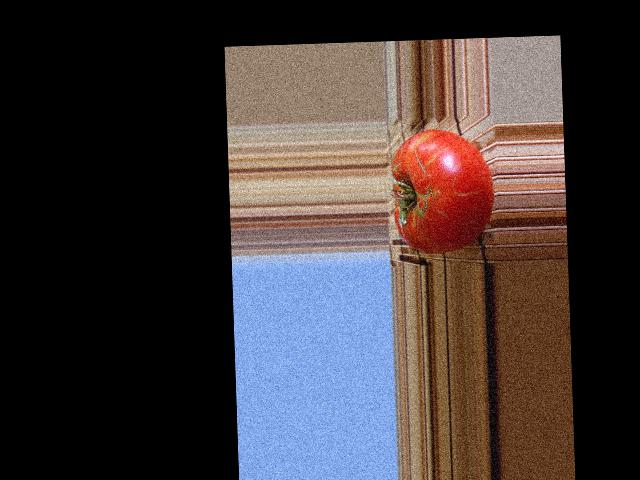tomato: (390, 128, 494, 255)
